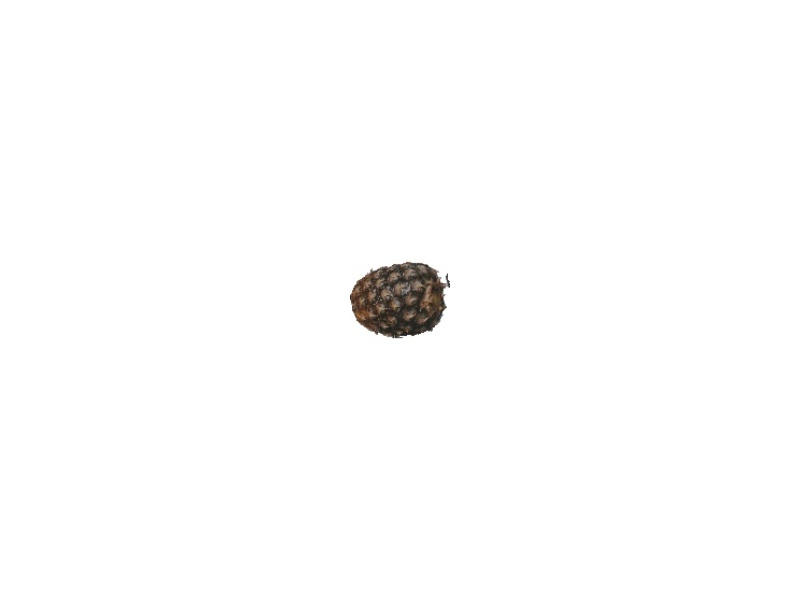abacaxi: (349, 258, 452, 340)
